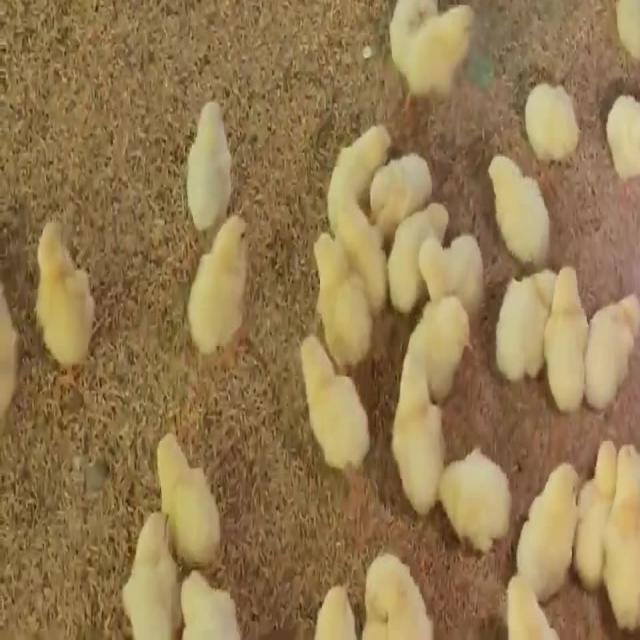poussin: (22, 207, 94, 380), (304, 343, 380, 492), (507, 447, 584, 579), (299, 224, 376, 352), (187, 217, 254, 355), (154, 427, 226, 555), (120, 496, 183, 638), (387, 350, 444, 498), (358, 540, 439, 640), (388, 0, 471, 96), (599, 441, 639, 620), (486, 152, 552, 258), (184, 88, 234, 221), (440, 438, 505, 535), (382, 198, 444, 298), (546, 260, 588, 404), (182, 552, 250, 640), (574, 424, 614, 568), (588, 279, 638, 388), (494, 268, 550, 363), (519, 74, 582, 156), (360, 140, 431, 210), (414, 222, 487, 288), (320, 116, 398, 176), (411, 294, 478, 358), (600, 97, 640, 174)
